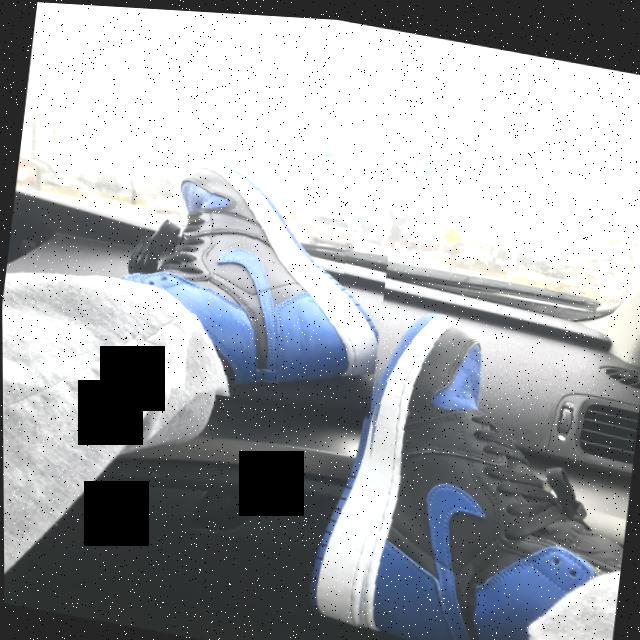shoe: (339, 295, 640, 640), (118, 147, 396, 421)
